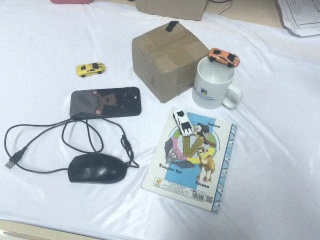book: (140, 108, 240, 218)
box: (131, 20, 211, 104)
cup: (191, 57, 243, 111)
mouse: (67, 152, 128, 186)
phone: (68, 87, 142, 120)
toy_car: (170, 109, 198, 137), (209, 47, 241, 68), (76, 62, 106, 78)
